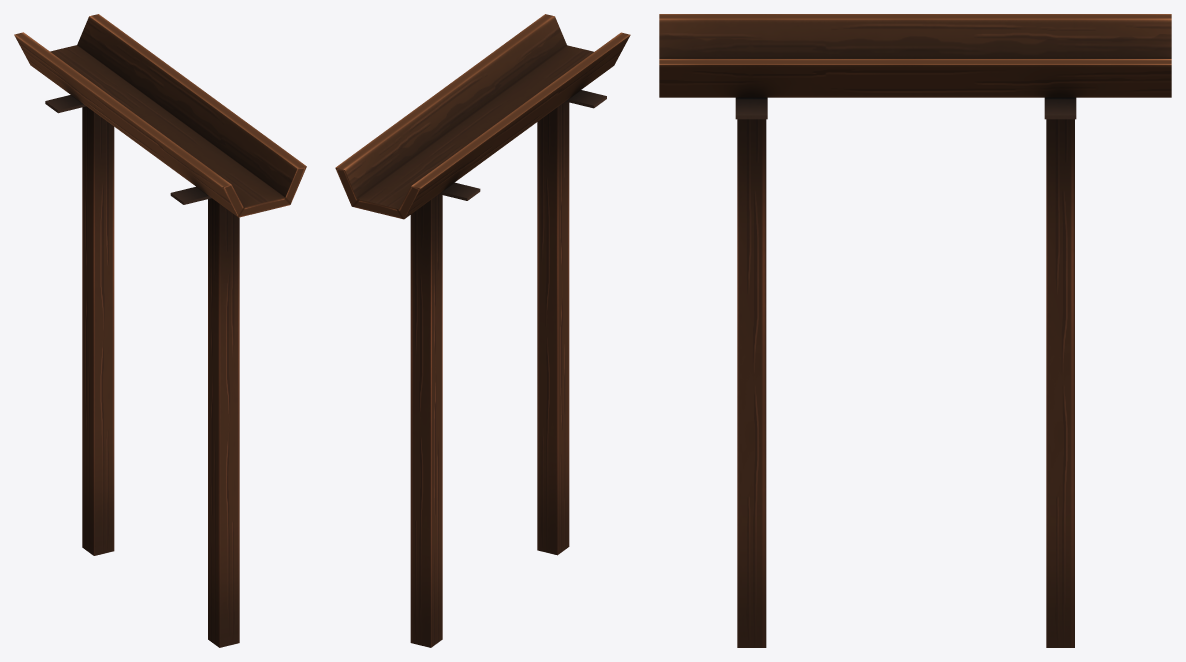
The model's file is Wheel_Water_Filmn_01.FBX.
3 renders of one model, left to right at view 1: azimuth 30°, elevation 25°; view 2: azimuth 150°, elevation 25°; view 3: azimuth 270°, elevation 25°, orthographic. The views are drawn at different scales.
Parts seen in each view (by area): view 1: Wheel_Water_Filmn_01; view 2: Wheel_Water_Filmn_01; view 3: Wheel_Water_Filmn_01.
Boxes of the visible parts, <box> form: Wheel_Water_Filmn_01: <box>14,14,306,647</box>; Wheel_Water_Filmn_01: <box>335,14,630,647</box>; Wheel_Water_Filmn_01: <box>659,14,1171,647</box>.
Size of the model in its own units: 32.64 by 149 by 114.
